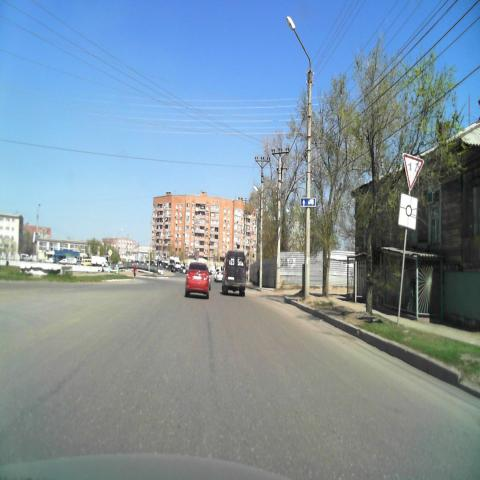6_15_1: (300, 198, 316, 207)
8_13_1: (398, 193, 418, 229)
